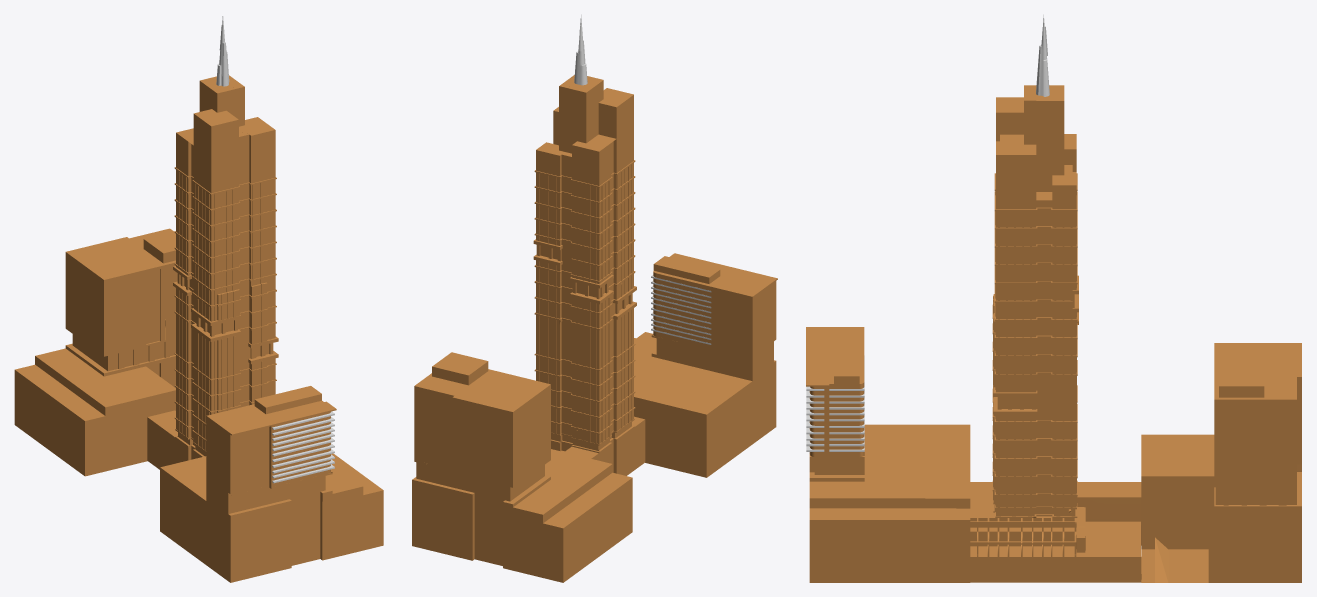
The model's file is NEST ONE CITEY 3d.fbx.
The picture shows the model from 3 angles, left to right: view 1: azimuth 30°, elevation 25°; view 2: azimuth 150°, elevation 25°; view 3: azimuth 270°, elevation 25°; orthographic projection. The views are drawn at different scales.
Parts seen in each view (by area): view 1: __NEST_ONE__asasiy_bino, Cube_2, Cube_1, Cube, Cone; view 2: __NEST_ONE__asasiy_bino, Cube_2, Cube_1, Cube, Cone; view 3: __NEST_ONE__asasiy_bino, Cube_2, Cube_1, Cube, Cone.
Part boxes in pixels (left/top/right/bottom): __NEST_ONE__asasiy_bino: left=147, top=75, right=278, bottom=469; Cube_2: left=14, top=228, right=177, bottom=476; Cube_1: left=160, top=453, right=383, bottom=582; Cube: left=206, top=386, right=336, bottom=495; Cone: left=216, top=16, right=229, bottom=86; __NEST_ONE__asasiy_bino: left=533, top=75, right=645, bottom=475; Cube_2: left=412, top=352, right=632, bottom=582; Cube_1: left=634, top=332, right=776, bottom=477; Cube: left=653, top=253, right=777, bottom=359; Cone: left=574, top=14, right=587, bottom=85; __NEST_ONE__asasiy_bino: left=964, top=85, right=1141, bottom=582; Cube_2: left=1141, top=343, right=1301, bottom=582; Cube_1: left=809, top=424, right=1076, bottom=582; Cube: left=806, top=327, right=864, bottom=458; Cone: left=1036, top=14, right=1049, bottom=96.
Size of the model in its own units: 500 by 1468 by 1231.
